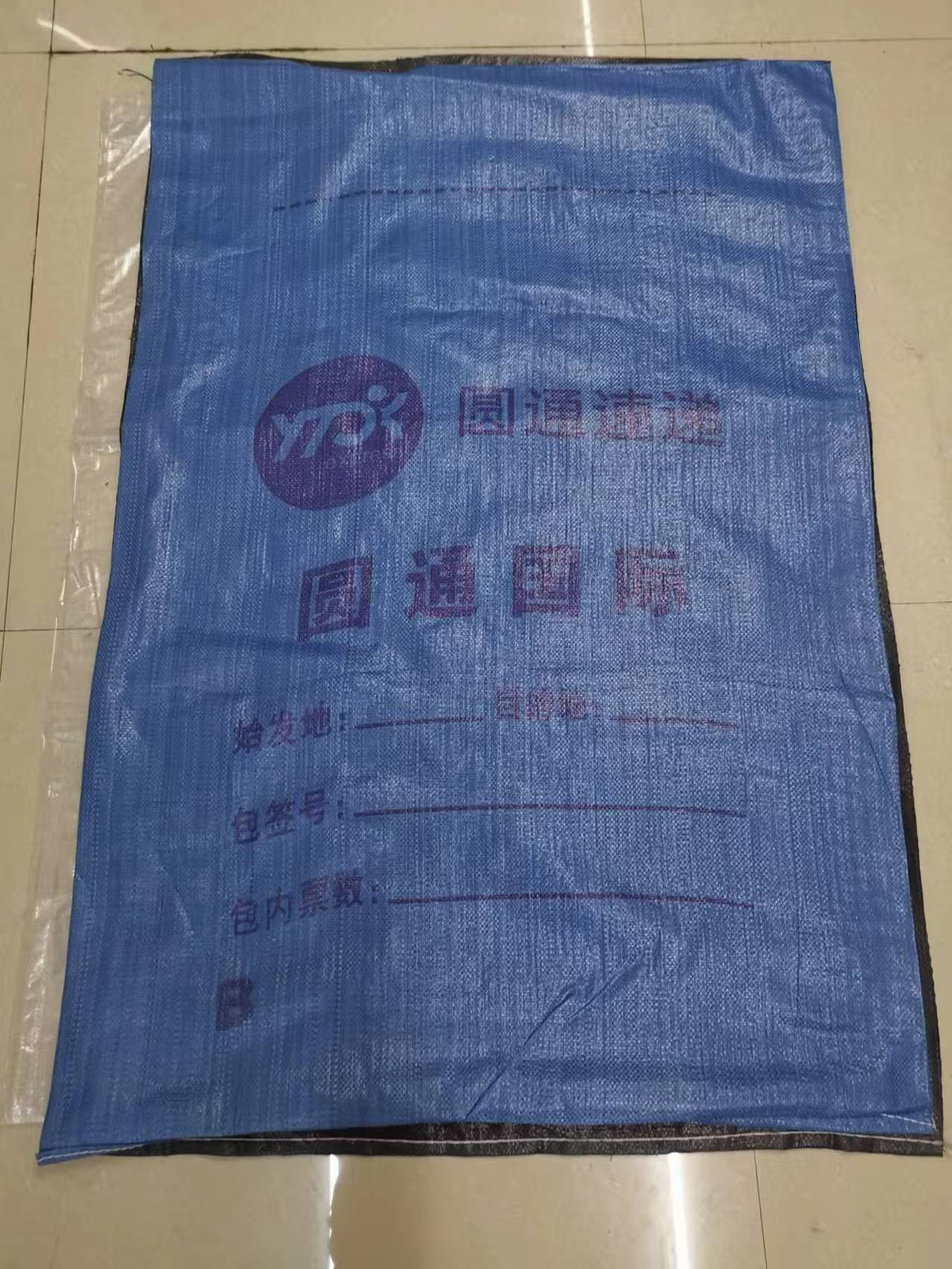Parcel: (41, 59, 939, 1160)
